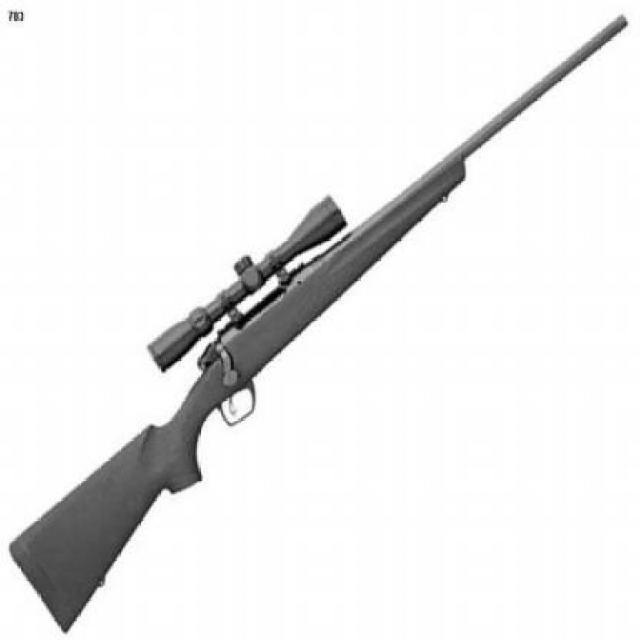weapon: (12, 16, 626, 636)
